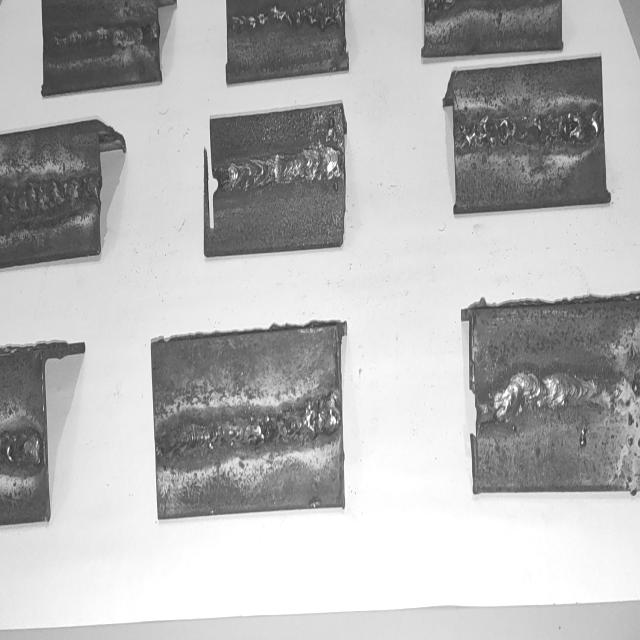Defect: (0, 178, 96, 223), (520, 109, 596, 148), (0, 428, 43, 468), (459, 120, 507, 154), (298, 2, 338, 30)
Good Weld: (158, 393, 336, 453), (479, 372, 606, 423), (223, 145, 340, 195), (44, 25, 159, 48)
